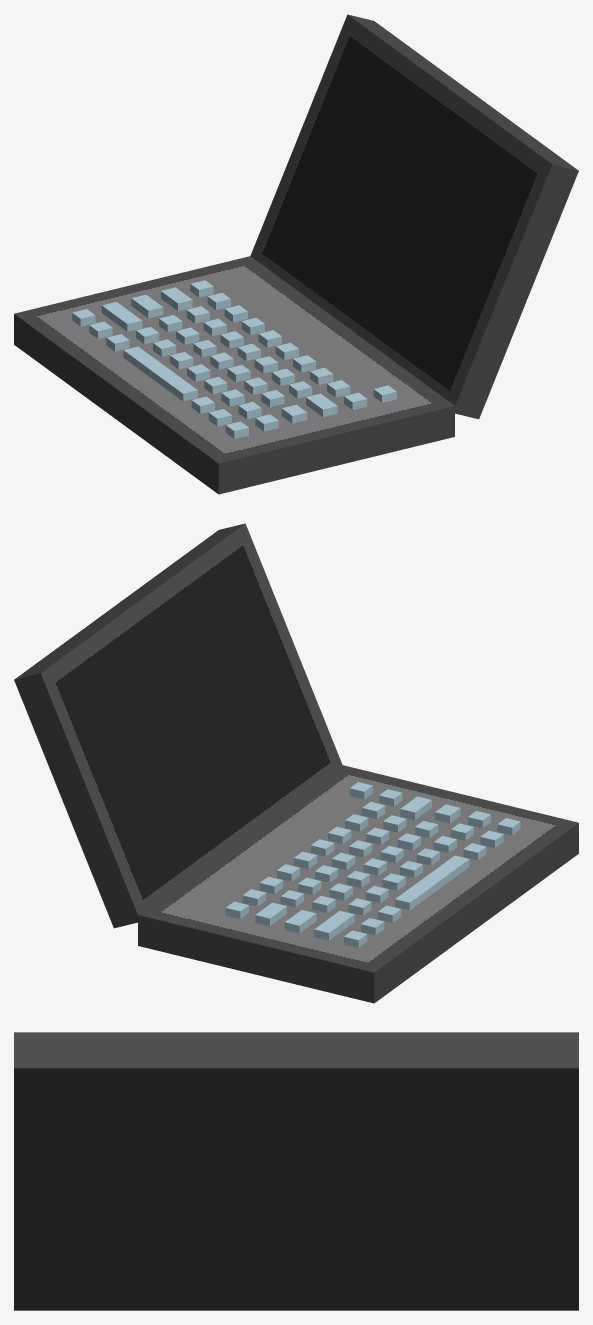
The model's file is Notebook.gltf.
The picture shows the model from 3 angles, top to bottom: view 1: azimuth 30°, elevation 25°; view 2: azimuth 150°, elevation 25°; view 3: azimuth 270°, elevation 25°; orthographic projection. The views are drawn at different scales.
Visible parts, largest first — view 1: screen, base, button (×2); view 2: screen, base, button (×2); view 3: screen.
Boxes of the visible parts, <box> form: screen: <box>250,14,578,419</box>; base: <box>14,256,454,494</box>; button (×2): <box>101,302,197,401</box>; screen: <box>14,523,342,928</box>; base: <box>138,765,578,1003</box>; button (×2): <box>314,855,469,940</box>; screen: <box>14,1032,578,1310</box>.
Size of the model in its own units: 1.52 by 1.01 by 1.5.
3 materials, 3 textured.
